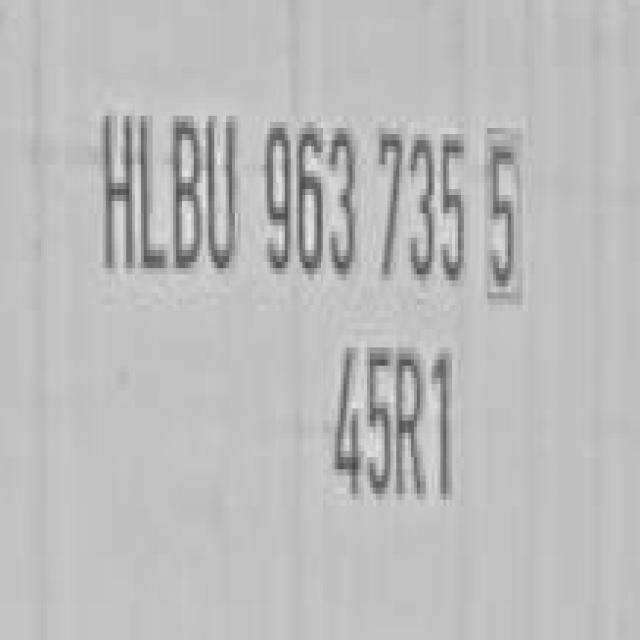dv: (472, 107, 536, 311)
owner: (90, 82, 246, 304)
serial: (258, 95, 469, 306)
size: (315, 321, 466, 532)
